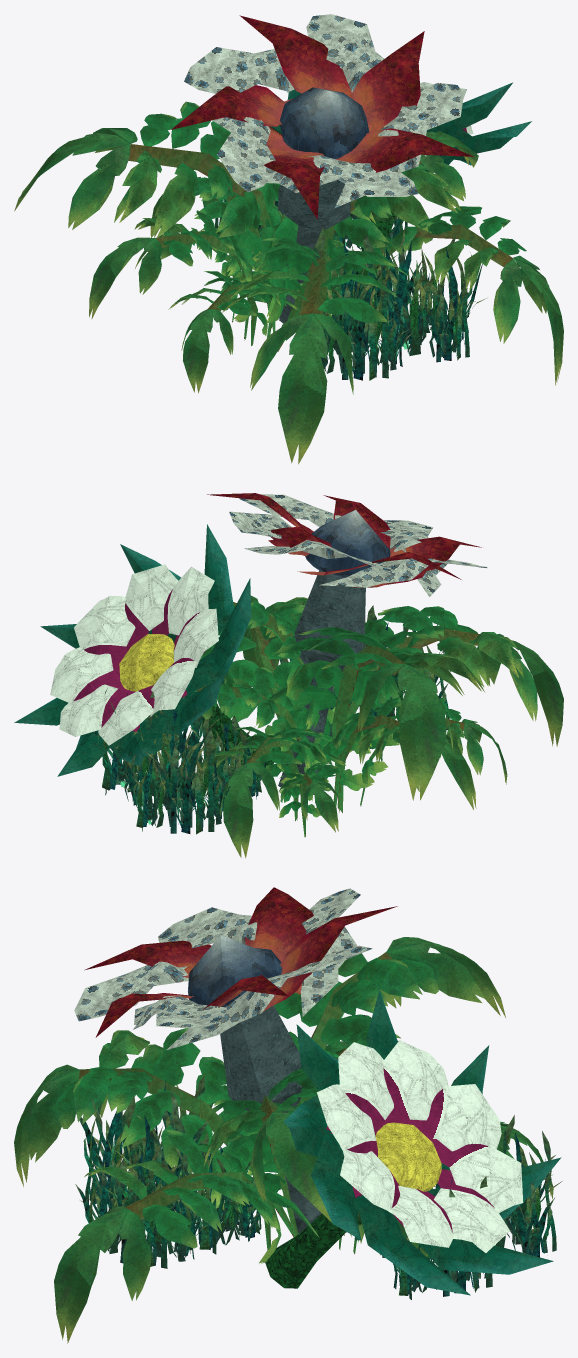
File: prefab_15.glb
3 views of the same model, one above another, from view 1: azimuth 30°, elevation 25°; view 2: azimuth 150°, elevation 25°; view 3: azimuth 270°, elevation 25° (orthographic). The views are drawn at different scales.
Visible parts, largest first — view 1: PRFB_15-no-col; view 2: PRFB_15-no-col; view 3: PRFB_15-no-col.
Boxes of the visible parts, bbox=[...] form: PRFB_15-no-col: bbox=[14, 14, 563, 464]; PRFB_15-no-col: bbox=[14, 493, 563, 858]; PRFB_15-no-col: bbox=[14, 887, 562, 1343].
Bounding box in the file's own units: 4.26 × 2.68 × 3.89.
3 materials, 3 textured.
